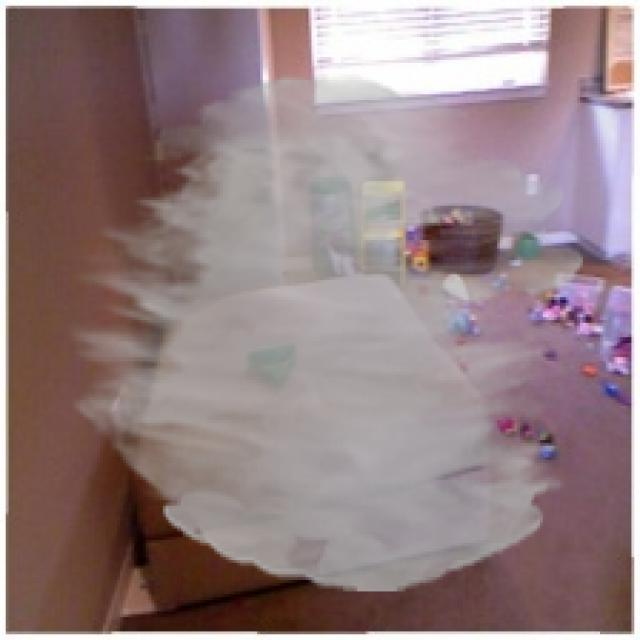smoke: (68, 74, 583, 592)
